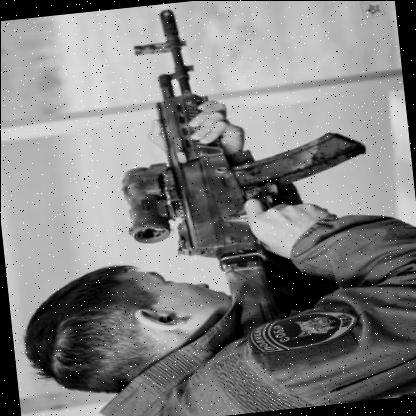rifle: (102, 0, 385, 356)
